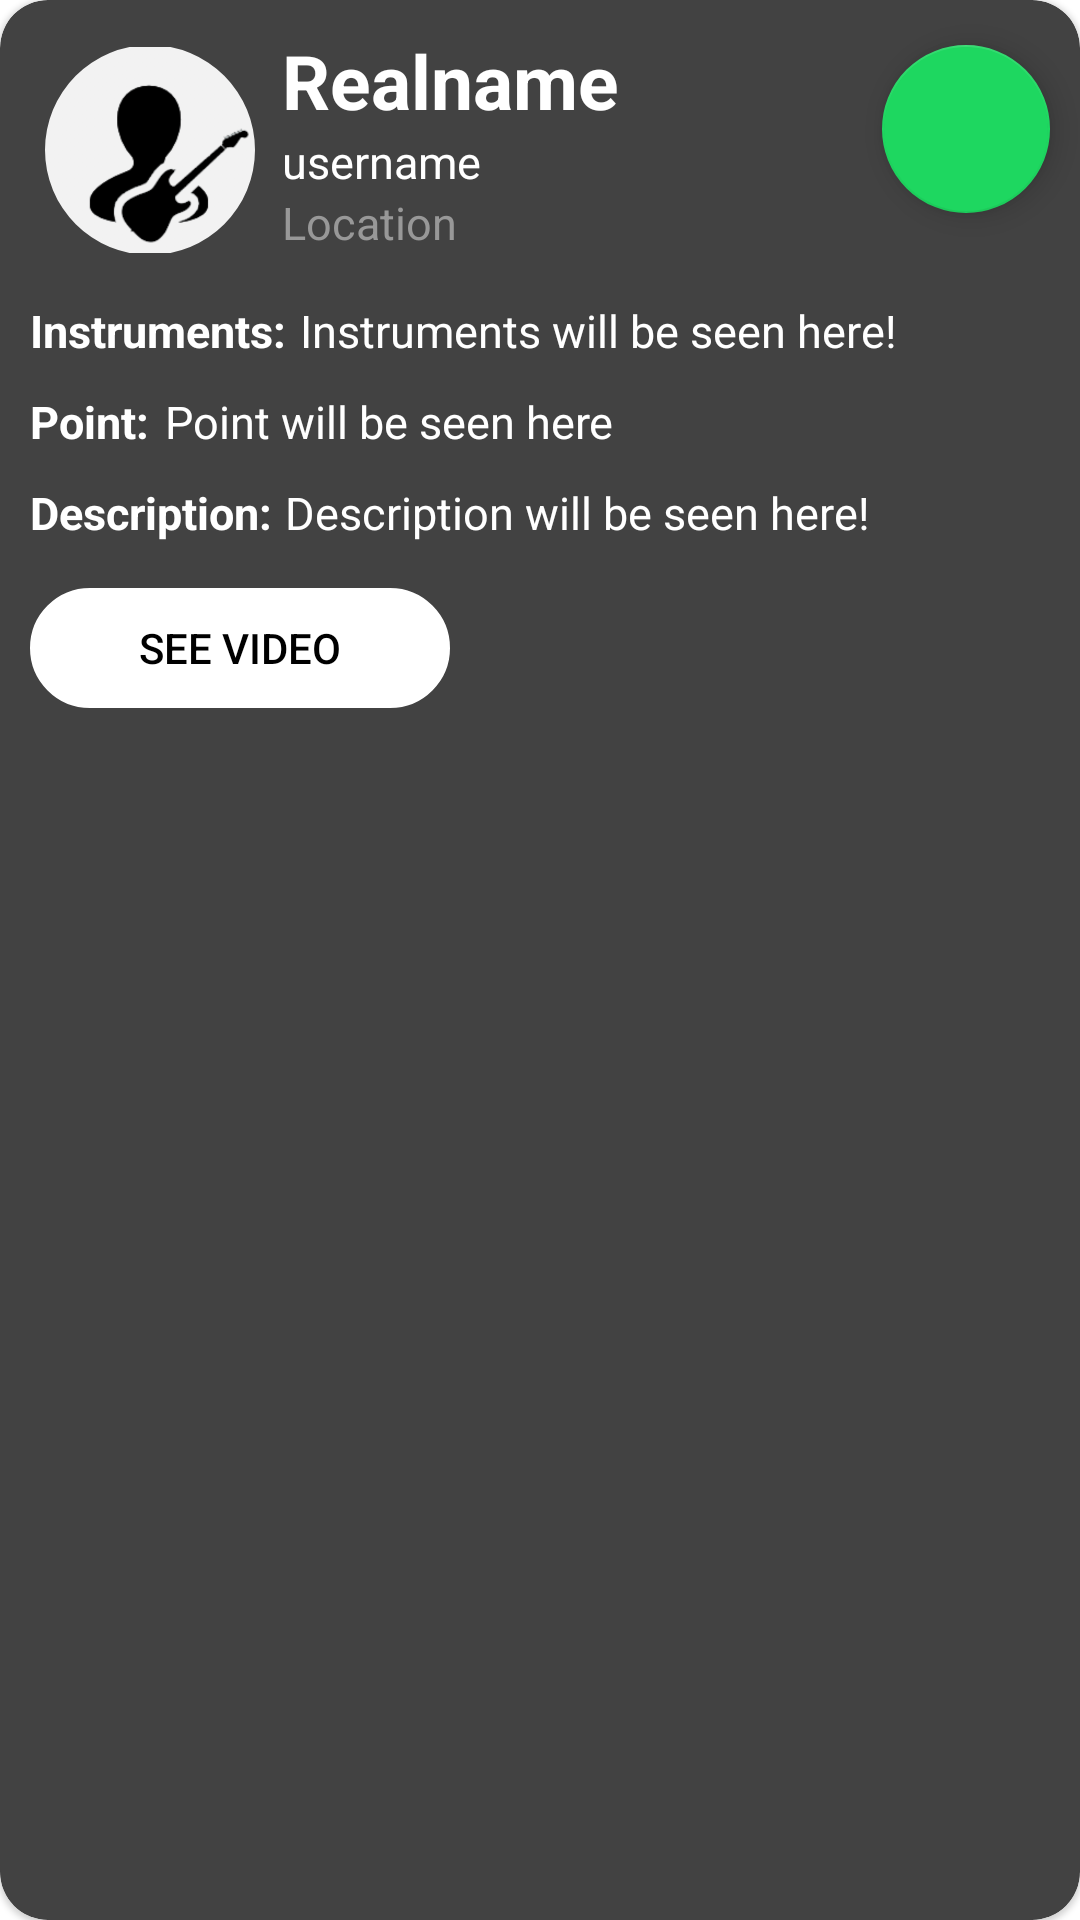

Named icons in this screenshot (1080px x 1920px) and their centers, point (x, y):
defaultpp: point (150, 150)
